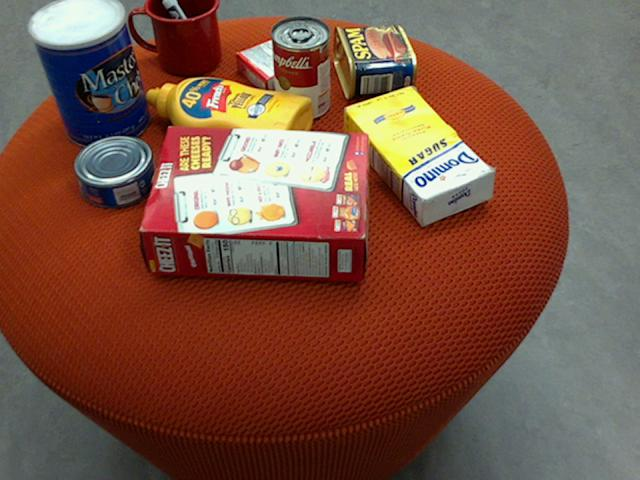cracker_box: (139, 123, 368, 280)
gelatin_box: (235, 30, 325, 96)
large_marker: (160, 0, 212, 66)
master_chef_can: (27, 0, 150, 148)
mug: (130, 0, 220, 75)
mustard_bottle: (146, 77, 312, 164)
potted_meat_can: (331, 26, 416, 100)
sugar_box: (342, 87, 495, 225)
tomato_soup_can: (270, 15, 330, 120)
tuna_fish_can: (73, 135, 157, 208)
